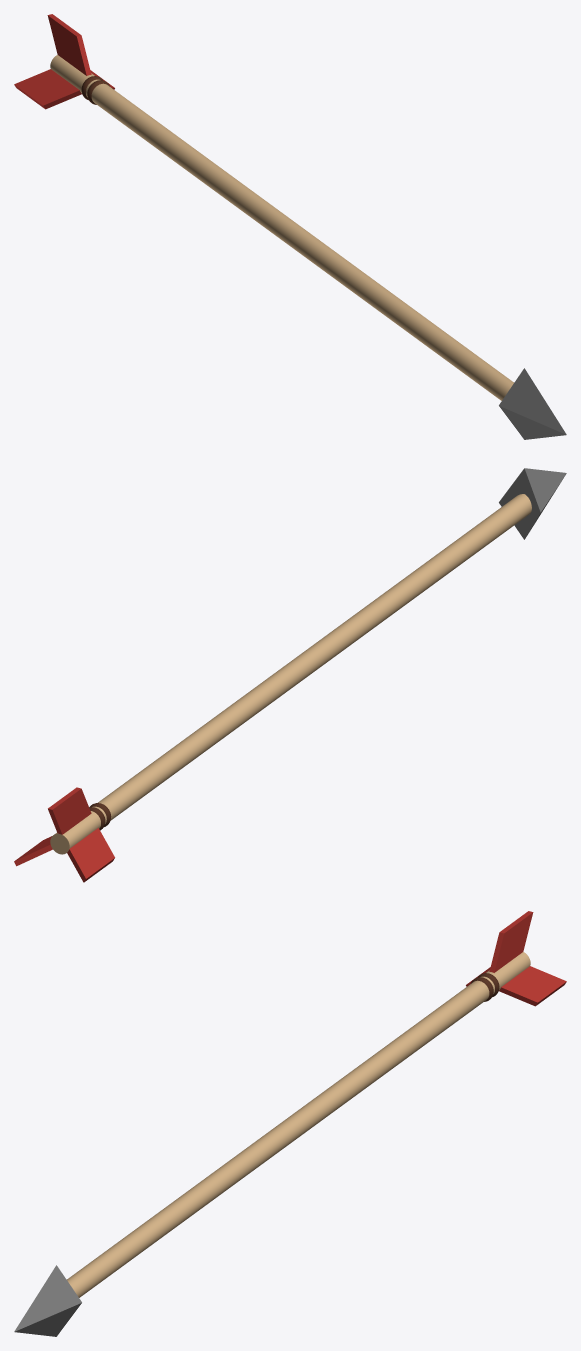
Rendered from Arrow.fbx.
3 renders of one model, top to bottom at view 1: azimuth 30°, elevation 25°; view 2: azimuth 150°, elevation 25°; view 3: azimuth 330°, elevation 25°, orthographic.
Parts seen in each view (by area): view 1: Shaft, Head, Feather2, Feather1; view 2: Shaft, Head, Feather2, Feather1; view 3: Shaft, Head, Feather3, Feather1.
Boxes of the visible parts, x1=… form: Shaft: x1=50, y1=55, x2=513, y2=400; Head: x1=499, y1=368, x2=566, y2=439; Feather2: x1=14, y1=69, x2=81, y2=109; Feather1: x1=47, y1=14, x2=91, y2=75; Shaft: x1=50, y1=494, x2=531, y2=854; Head: x1=499, y1=468, x2=566, y2=539; Feather2: x1=67, y1=828, x2=114, y2=882; Feather1: x1=48, y1=787, x2=91, y2=834; Shaft: x1=67, y1=952, x2=530, y2=1297; Head: x1=14, y1=1265, x2=81, y2=1336; Feather3: x1=499, y1=966, x2=566, y2=1006; Feather1: x1=489, y1=911, x2=533, y2=972.
Size of the model in its own units: 4.48 by 4.64 by 55.61.
